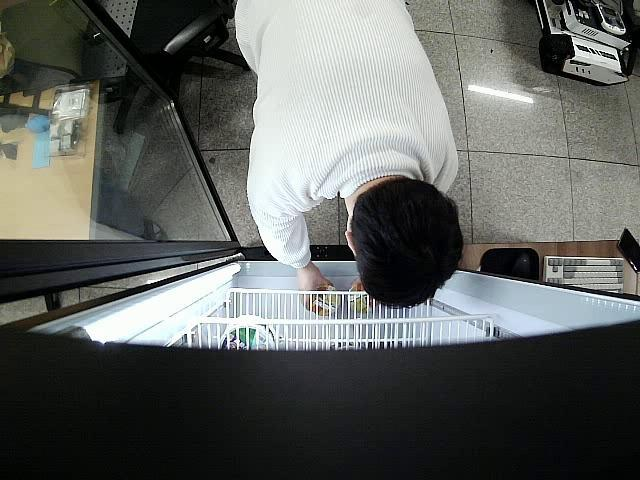04_chapagetti_S: (306, 285, 344, 319)
